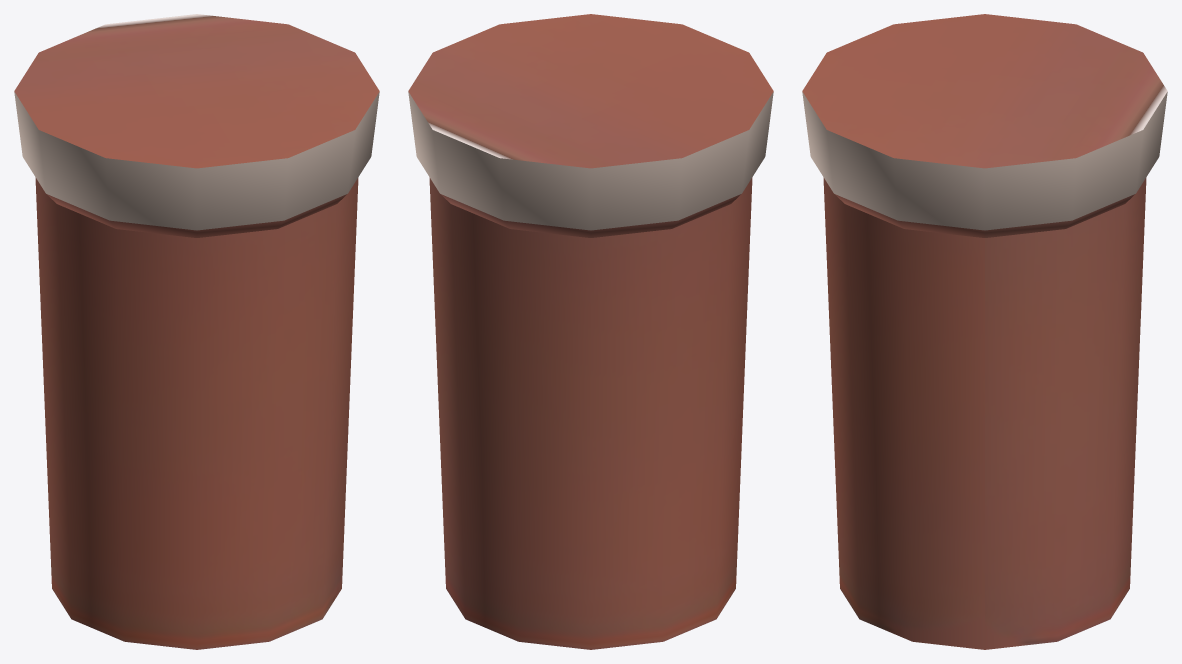
The model's file is SM_drink_coffee_01.fbx.
3 renders of one model, left to right at view 1: azimuth 30°, elevation 25°; view 2: azimuth 150°, elevation 25°; view 3: azimuth 270°, elevation 25°, orthographic.
Parts seen in each view (by area): view 1: Cylinder003; view 2: Cylinder003; view 3: Cylinder003.
Boxes of the visible parts, bbox=[...] form: Cylinder003: bbox=[14, 14, 379, 649]; Cylinder003: bbox=[408, 14, 773, 649]; Cylinder003: bbox=[802, 14, 1167, 649].
Size of the model in its own units: 10.24 by 15.37 by 10.24.
